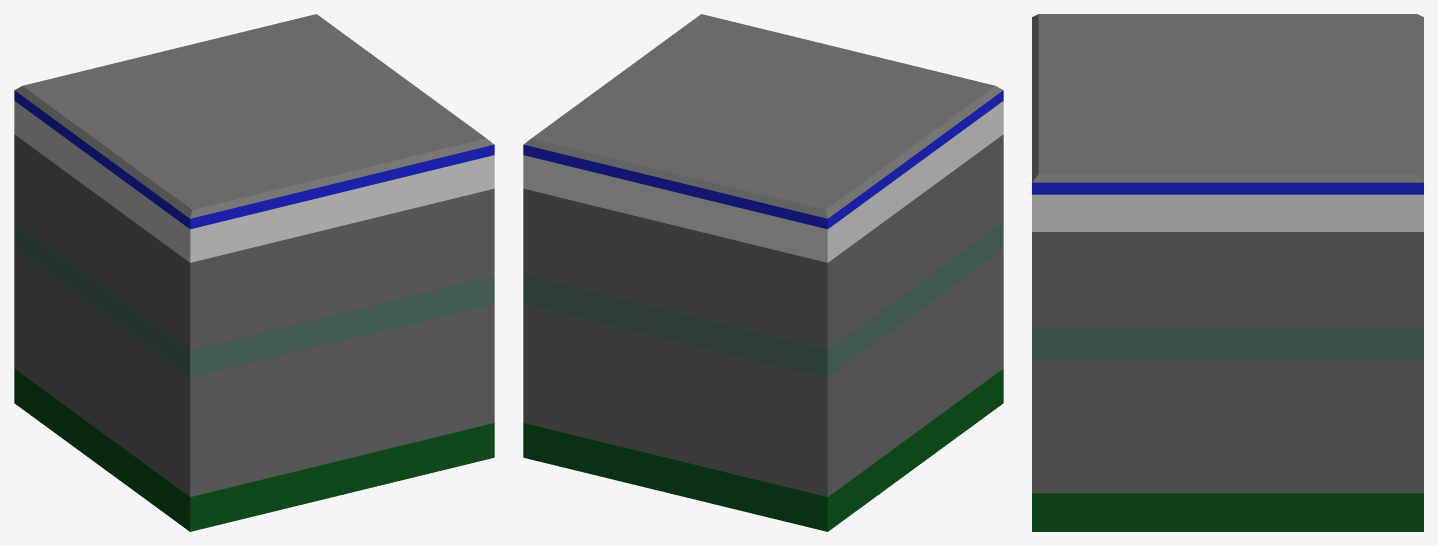
The model's file is wall3.glb.
The picture shows the model from 3 angles, left to right: view 1: azimuth 30°, elevation 25°; view 2: azimuth 150°, elevation 25°; view 3: azimuth 270°, elevation 25°; orthographic projection. The views are drawn at different scales.
Parts seen in each view (by area): view 1: Cube; view 2: Cube; view 3: Cube.
Part boxes in pixels (x1=…): Cube: x1=14, y1=14, x2=494, y2=531; Cube: x1=523, y1=14, x2=1003, y2=531; Cube: x1=1032, y1=14, x2=1423, y2=531.
Bounding box in the file's own units: 2 × 2 × 2.
